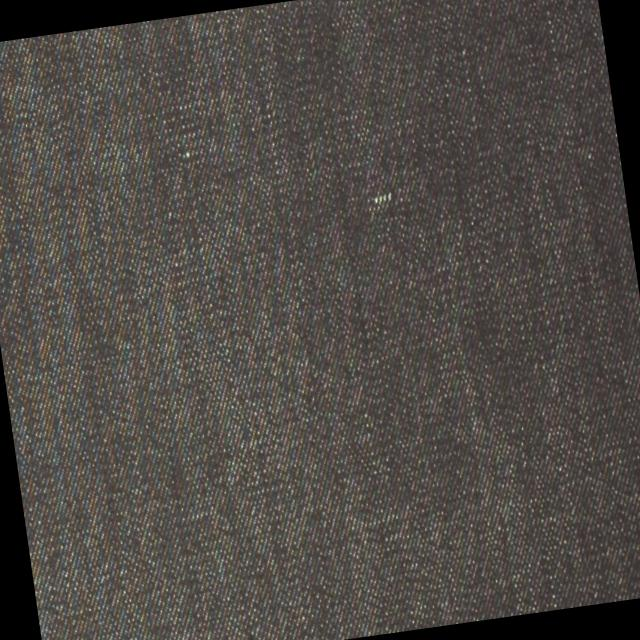Warp_Weft: (371, 190, 394, 208)
